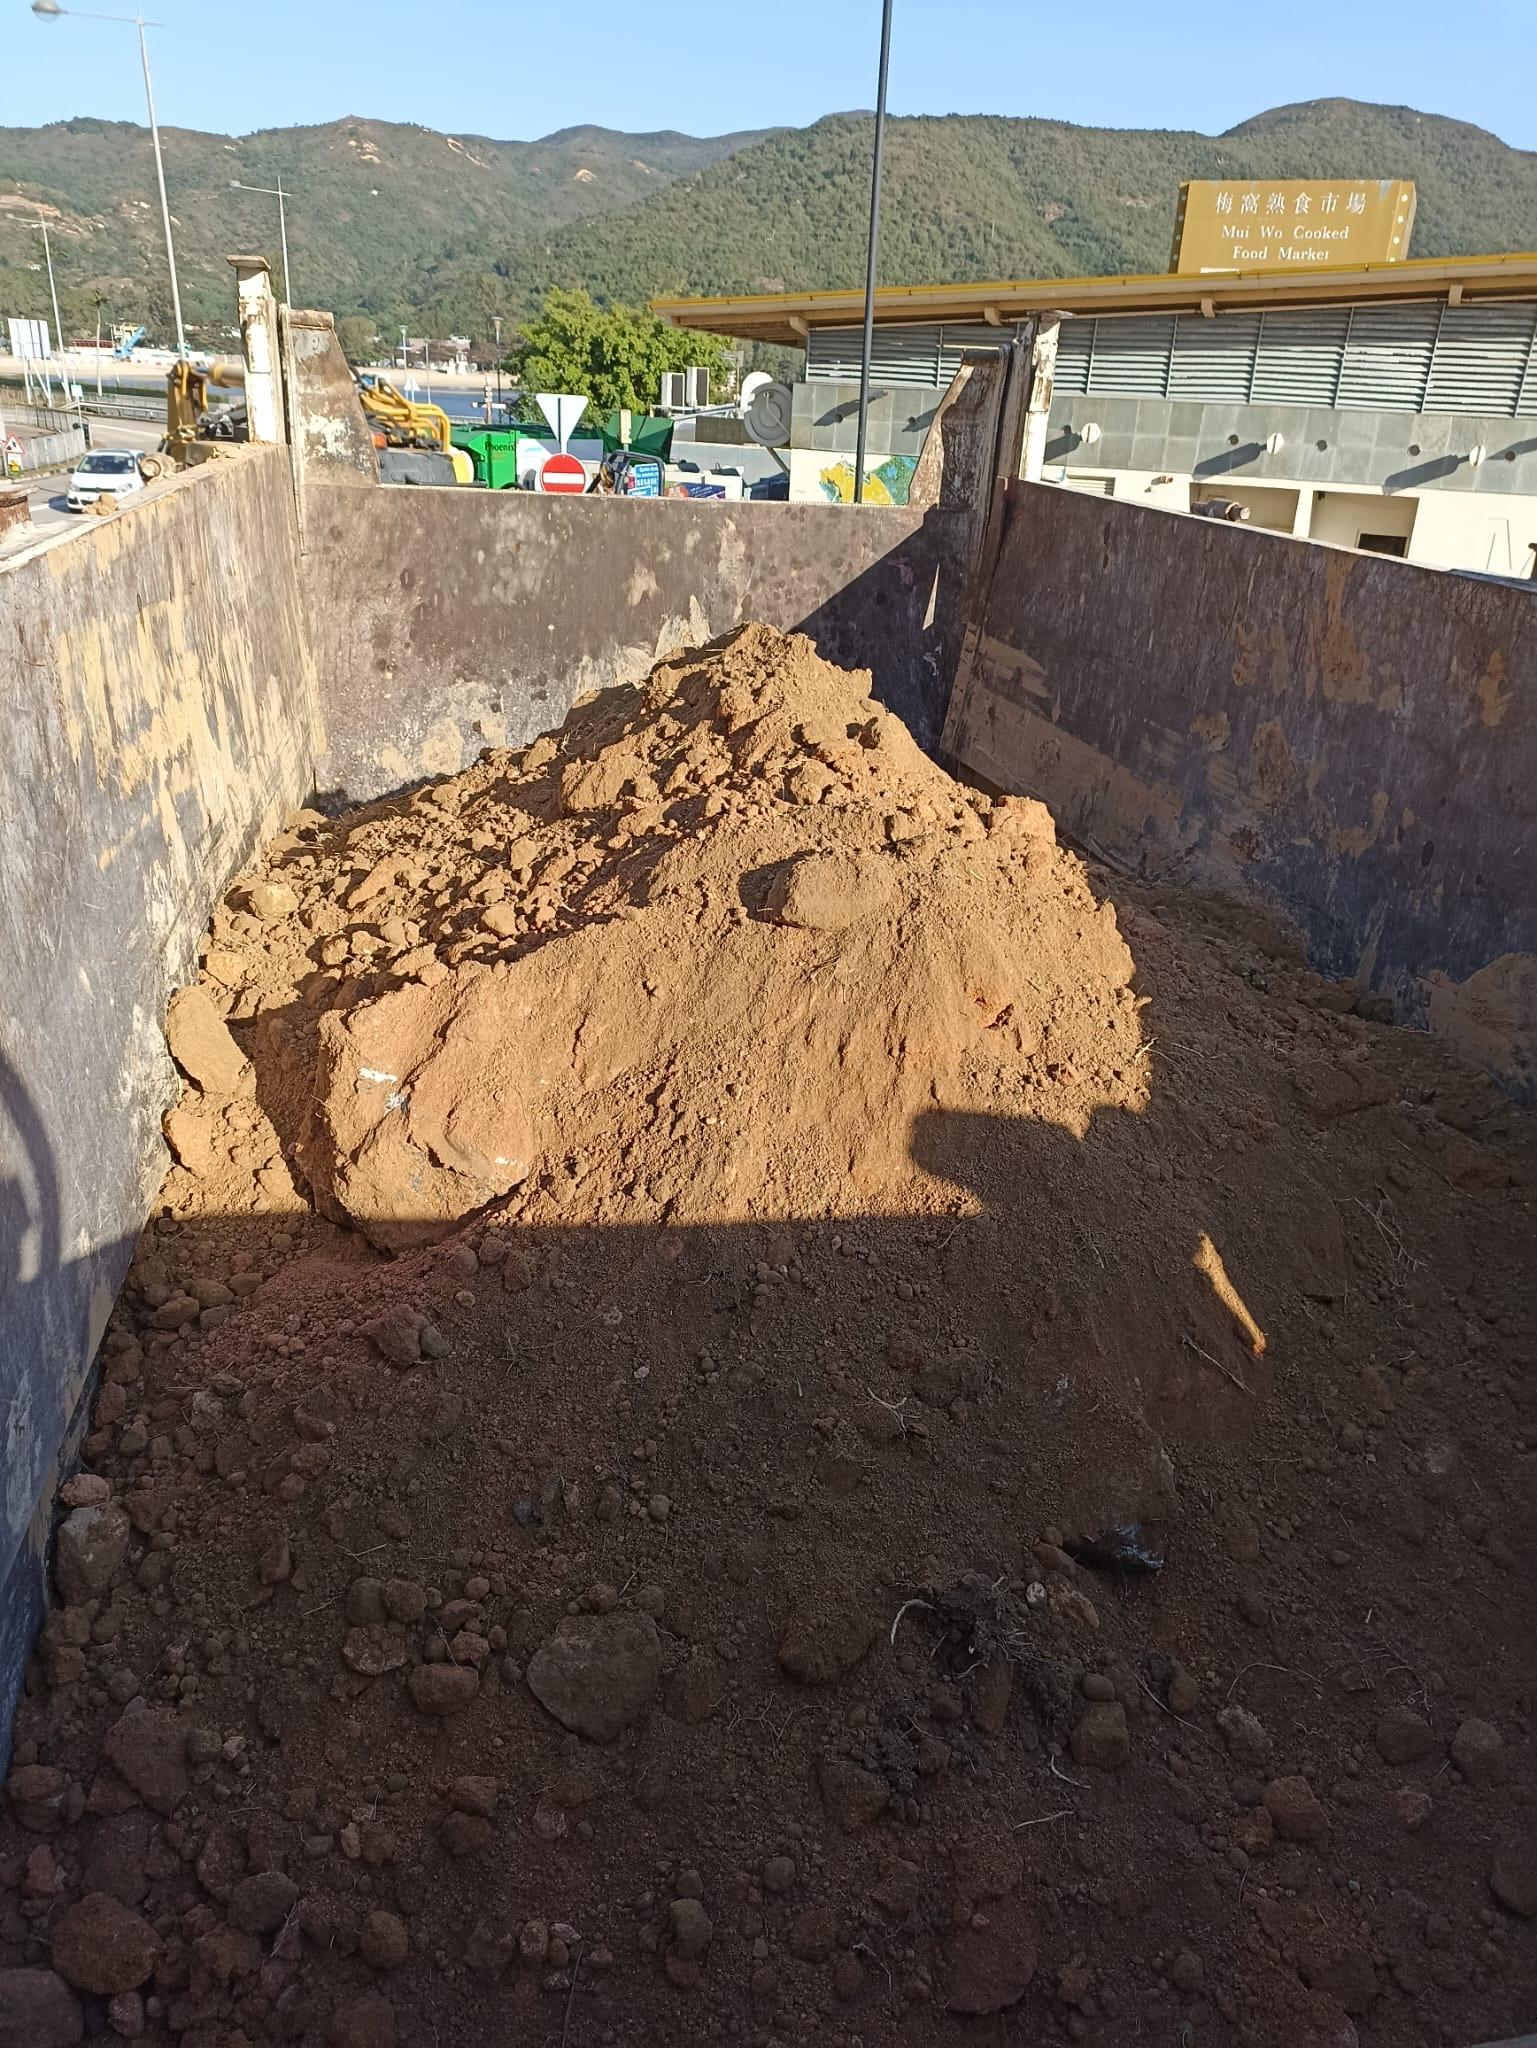dry: (10, 616, 1527, 2048)
